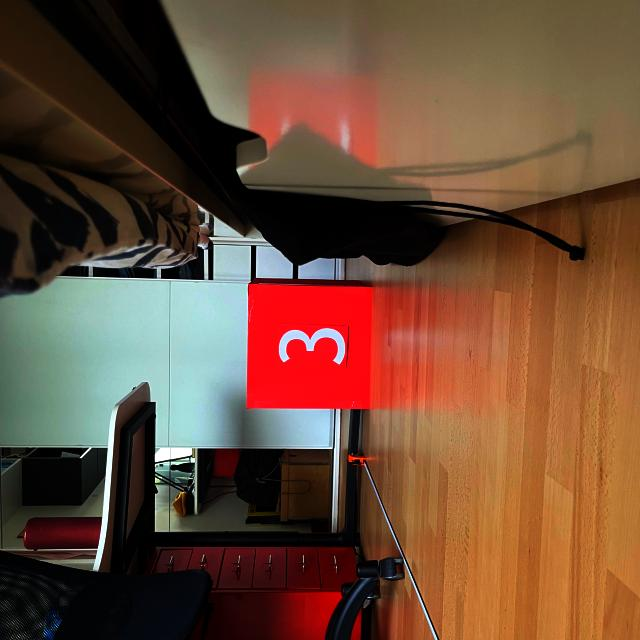box: (243, 274, 376, 412)
